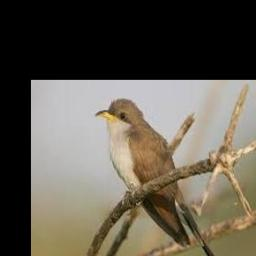Cuckoo: (95, 98, 234, 256)
